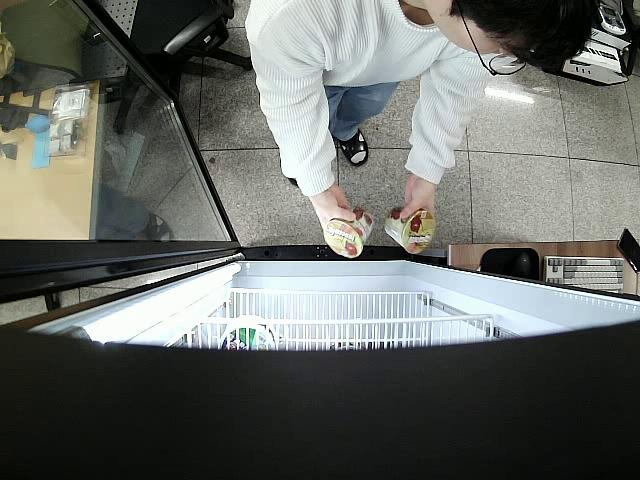00_hand: (310, 181, 357, 230), (399, 172, 439, 227)
04_chapagetti_S: (322, 208, 373, 257), (384, 205, 435, 253)
